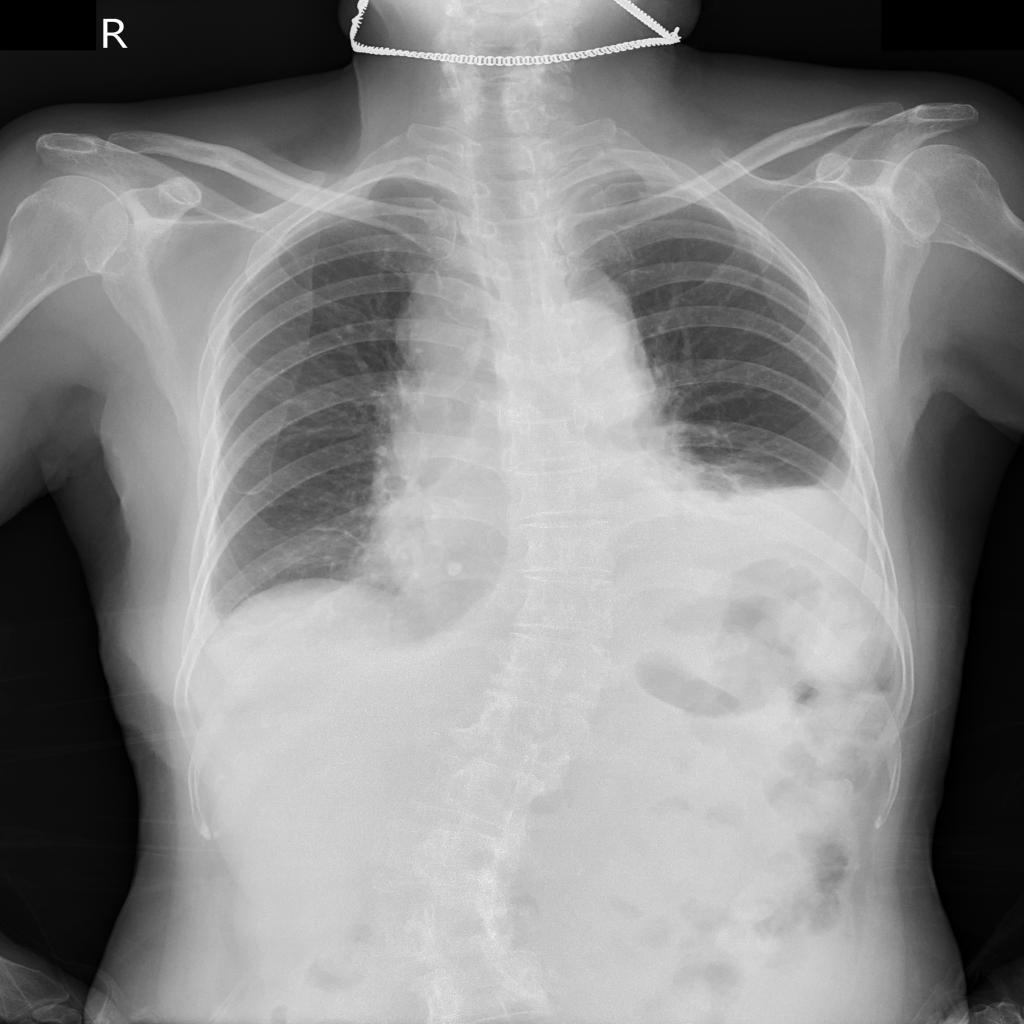Nodule: (448, 563, 465, 577)
